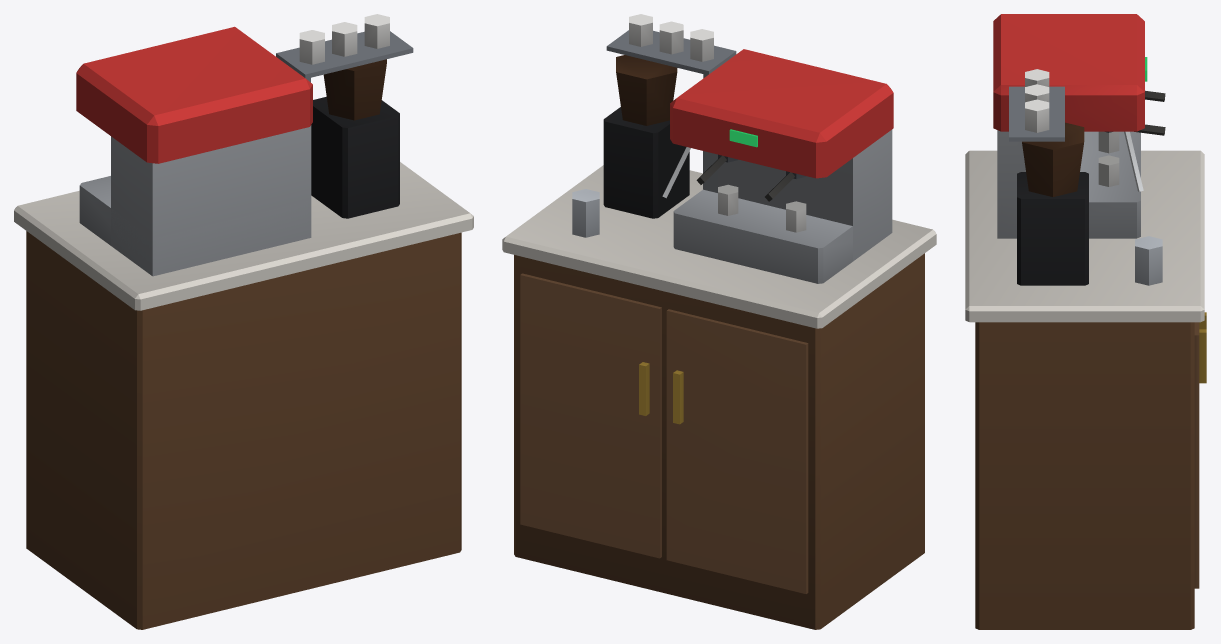
Rendered from coffee_machine_01.glb.
3 renders of one model, left to right at view 1: azimuth 30°, elevation 25°; view 2: azimuth 150°, elevation 25°; view 3: azimuth 270°, elevation 25°, orthographic. The views are drawn at different scales.
Parts seen in each view (by area): view 1: coffee_machine_01_mesh; view 2: coffee_machine_01_mesh; view 3: coffee_machine_01_mesh.
Boxes of the visible parts, box(x1,y1,x2,y2) form: coffee_machine_01_mesh: box(14, 14, 473, 629); coffee_machine_01_mesh: box(502, 14, 936, 629); coffee_machine_01_mesh: box(965, 14, 1206, 629).
Size of the model in its own units: 0.9399 by 1.38 by 0.605.
2 materials, 2 textured.
